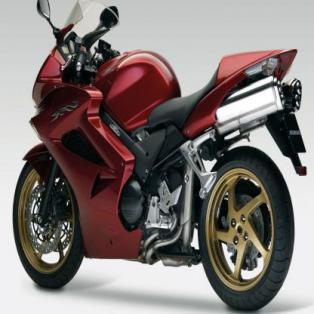Motocicleta: (12, 1, 314, 313)
